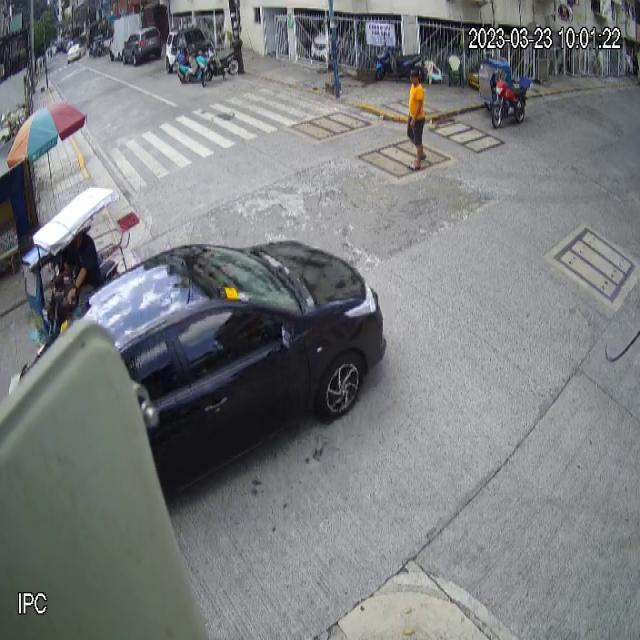Car: (74, 238, 386, 500)
Tricycle: (19, 185, 120, 344), (478, 53, 530, 130)
